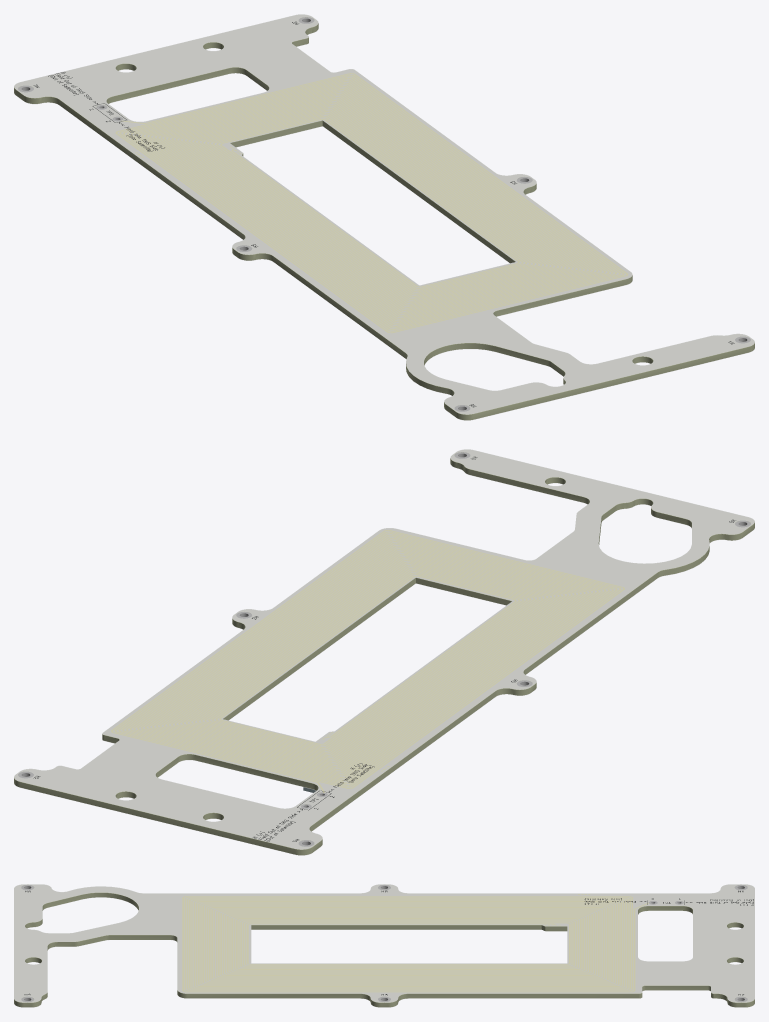
The model's file is coil-xy.glb.
3 renders of one model, top to bottom at view 1: azimuth 30°, elevation 25°; view 2: azimuth 150°, elevation 25°; view 3: azimuth 270°, elevation 25°, orthographic. The views are drawn at different scales.
Visible parts, largest first — view 1: coil-xy; view 2: coil-xy; view 3: coil-xy.
Boxes of the visible parts, bbox=[...] form: coil-xy: bbox=[14, 14, 754, 420]; coil-xy: bbox=[14, 449, 754, 855]; coil-xy: bbox=[14, 884, 754, 1007].
Bounding box in the file's own units: 0.0815 × 0.00427 × 0.2155.
